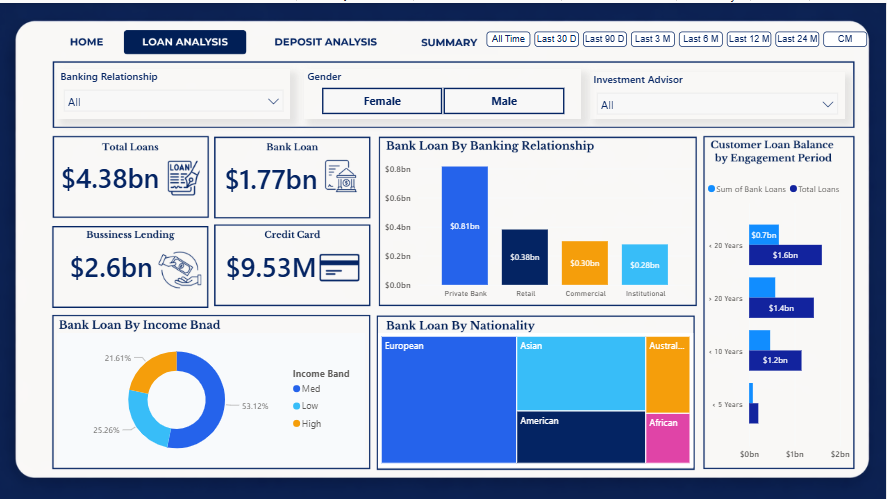

The page's visual inventory and layout, read from the dashboard file:
{"tool":"powerbi","page":{"name":"Loan Analysis","canvas":[1280,720],"ordinal":1},"visuals":[{"type":"card","fields":{"Values":["public customer.Total Loans"]},"box":[75.3,214.8,172.8,71.6],"z":0},{"type":"card","fields":{"Values":["Sum(public customer.Bank Loans)"]},"box":[306.7,216,172.8,72],"z":1000},{"type":"card","fields":{"Values":["Sum(public customer.Business Lending)"]},"box":[76.3,342.7,172.8,72],"z":2000},{"type":"actionButton","box":[76.3,40.3,99.4,40.3],"z":3000},{"type":"actionButton","box":[380.2,40.3,175.7,40.3],"z":4000},{"type":"actionButton","box":[599,40.3,99.4,40.3],"z":5000},{"type":"card","fields":{"Values":["Sum(public customer.Credit Card Balance)"]},"box":[306.7,342.7,172.8,72],"z":6000},{"type":"donutChart","title":"Bank Loan By Income Band ","fields":{"Category":["public customer.Income Band"],"Y":["Sum(public customer.Bank Loans)"]},"box":[85.2,475.3,444.4,192.6],"z":7000},{"type":"clusteredColumnChart","title":"Bank Loan By Income Band ","fields":{"Category":["public customer.BRId"],"Y":["Sum(public customer.Bank Loans)"]},"box":[551.9,196.3,455.6,237],"z":8000},{"type":"treemap","fields":{"Values":["Sum(public customer.Bank Loans)"],"Group":["public customer.Nationality"]},"box":[546.9,475.3,454.3,192.6],"z":9000},{"type":"clusteredBarChart","title":"Bank Loan By Income Band ","fields":{"Category":["public customer.Engagement Timeframe"],"Y":["Sum(public customer.Bank Loans)","public customer.Total Loans"]},"box":[1016,248.1,228.4,419.8],"z":10000},{"type":"slicer","title":"Banking Relationship","fields":{"Values":["public customer.BRId"]},"box":[85.2,95.1,335.8,71.6],"z":11000},{"type":"slicer","title":"Gender","fields":{"Values":["public customer.GenderId"]},"box":[440.7,95.1,398.8,71.6],"z":12000},{"type":"slicer","title":"Investment Advisor","fields":{"Values":["public customer.IAId"]},"box":[851.9,100,366.7,66.7],"z":13000},{"type":"ChicletSlicer1448559807354","fields":{"Category":["Period Filter.Period"]},"box":[695.5,33.1,564.5,47.5],"z":14000}]}

Visuals, with their boxes in screenshot pixels (x1, y1, x2, y2), scaled from the page's 1280x720 canvas onto the 887x499 screenshot:
card - public customer.Total Loans: Rect(52, 149, 172, 198)
card - Sum(public customer.Bank Loans): Rect(213, 150, 332, 200)
card - Sum(public customer.Business Lending): Rect(53, 238, 173, 287)
actionButton: Rect(53, 28, 122, 56)
actionButton: Rect(263, 28, 385, 56)
actionButton: Rect(415, 28, 484, 56)
card - Sum(public customer.Credit Card Balance): Rect(213, 238, 332, 287)
"Bank Loan By Income Band " donutChart: Rect(59, 329, 367, 463)
"Bank Loan By Income Band " clusteredColumnChart: Rect(382, 136, 698, 300)
treemap - Sum(public customer.Bank Loans) x public customer.Nationality: Rect(379, 329, 694, 463)
"Bank Loan By Income Band " clusteredBarChart: Rect(704, 172, 862, 463)
"Banking Relationship" slicer: Rect(59, 66, 292, 116)
"Gender" slicer: Rect(305, 66, 582, 116)
"Investment Advisor" slicer: Rect(590, 69, 844, 116)
ChicletSlicer1448559807354 - Period Filter.Period: Rect(482, 23, 873, 56)
